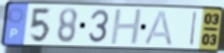3: (87, 8, 111, 45)
5: (27, 7, 53, 44)
8: (56, 7, 79, 45)
A: (143, 9, 174, 47)
H: (109, 7, 145, 46)
I: (188, 10, 199, 47)
